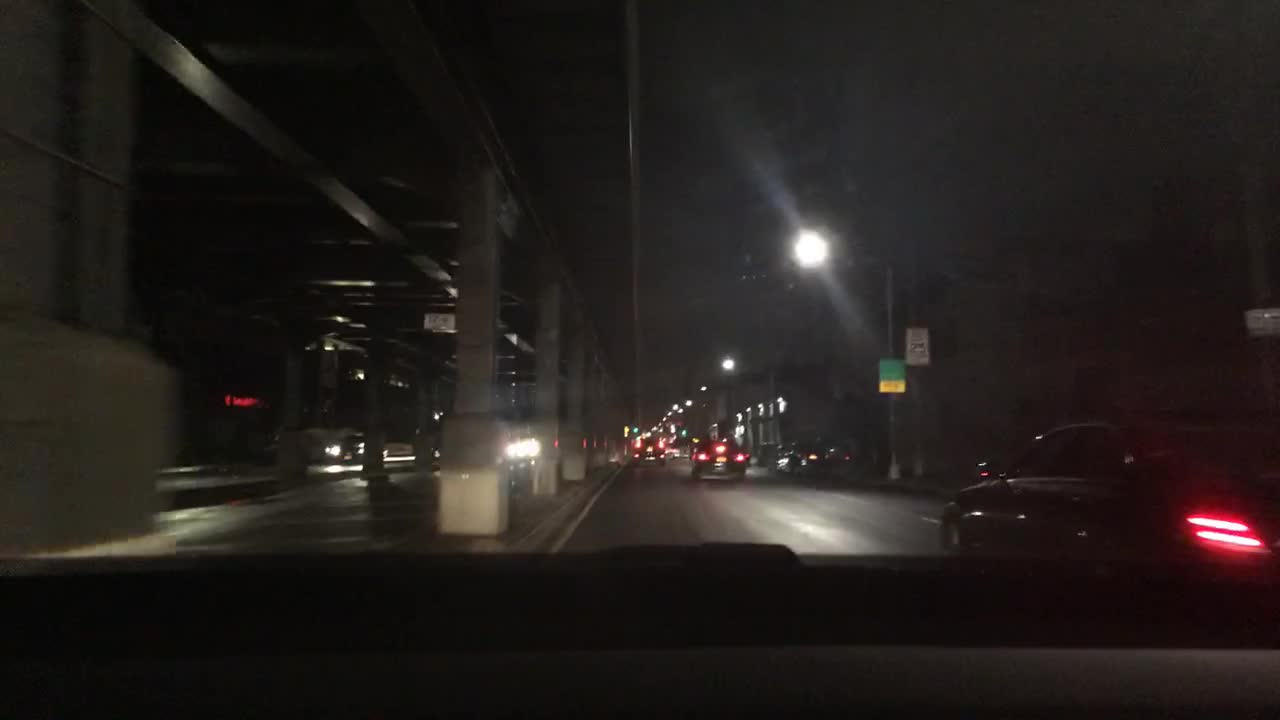car: (938, 417, 1279, 567), (774, 433, 848, 484), (690, 434, 748, 477), (322, 433, 378, 465), (631, 436, 668, 466), (756, 445, 776, 466)
traffic light: (629, 422, 638, 436), (682, 426, 690, 438)
traffic sign: (1242, 306, 1277, 340), (879, 358, 907, 394), (902, 325, 928, 363), (421, 311, 456, 329)
